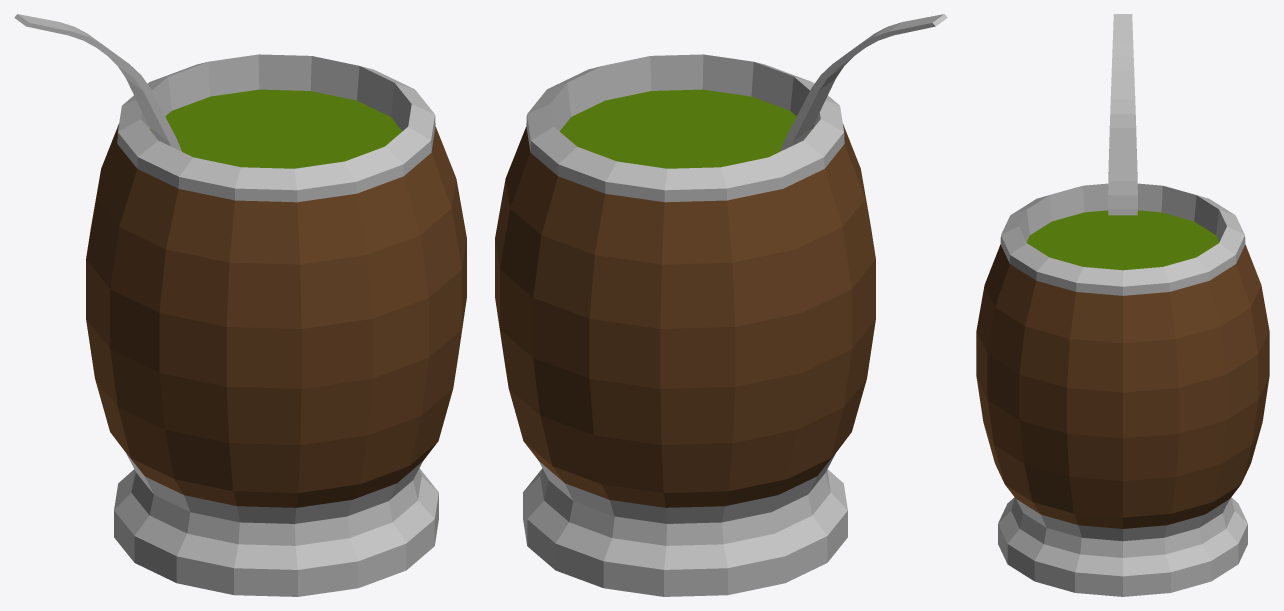
File: Mate.fbx
3 views of the same model, side by side, from view 1: azimuth 30°, elevation 25°; view 2: azimuth 150°, elevation 25°; view 3: azimuth 270°, elevation 25° (orthographic). The views are drawn at different scales.
Parts seen in each view (by area): view 1: Mate; view 2: Mate; view 3: Mate.
Boxes of the visible parts, box(x1,y1,x2,y2) form: Mate: box(14, 14, 466, 596); Mate: box(495, 14, 947, 596); Mate: box(976, 14, 1269, 596).
Size of the model in its own units: 14.61 by 18.88 by 11.5.
